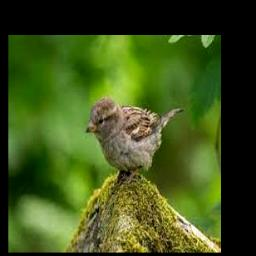Sparrow: (85, 95, 183, 183)
